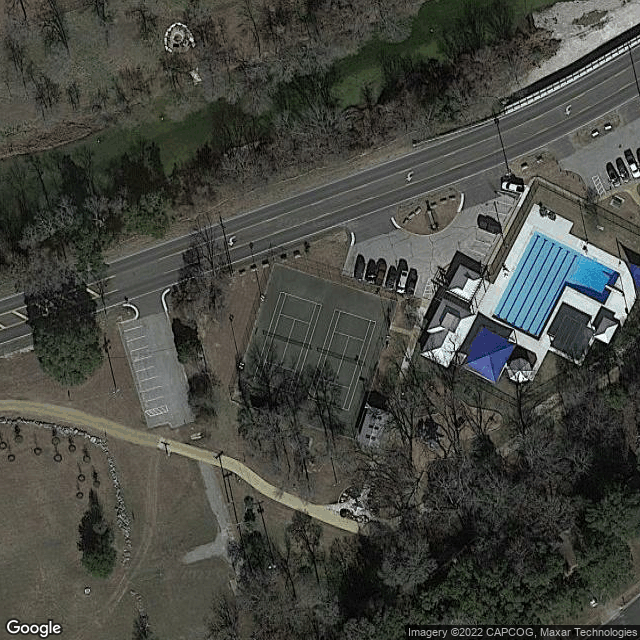Court: (252, 290, 323, 394), (307, 308, 377, 412)
